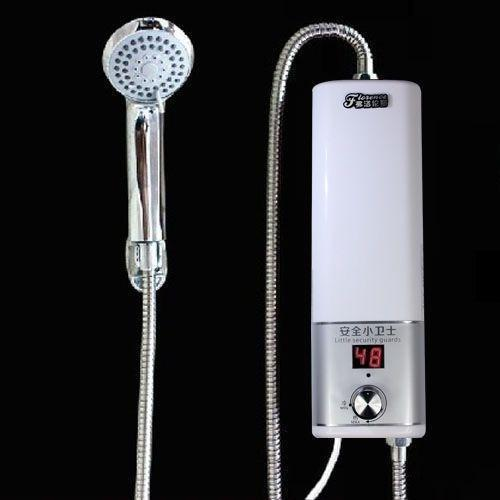Ducha: (66, 0, 434, 499)
